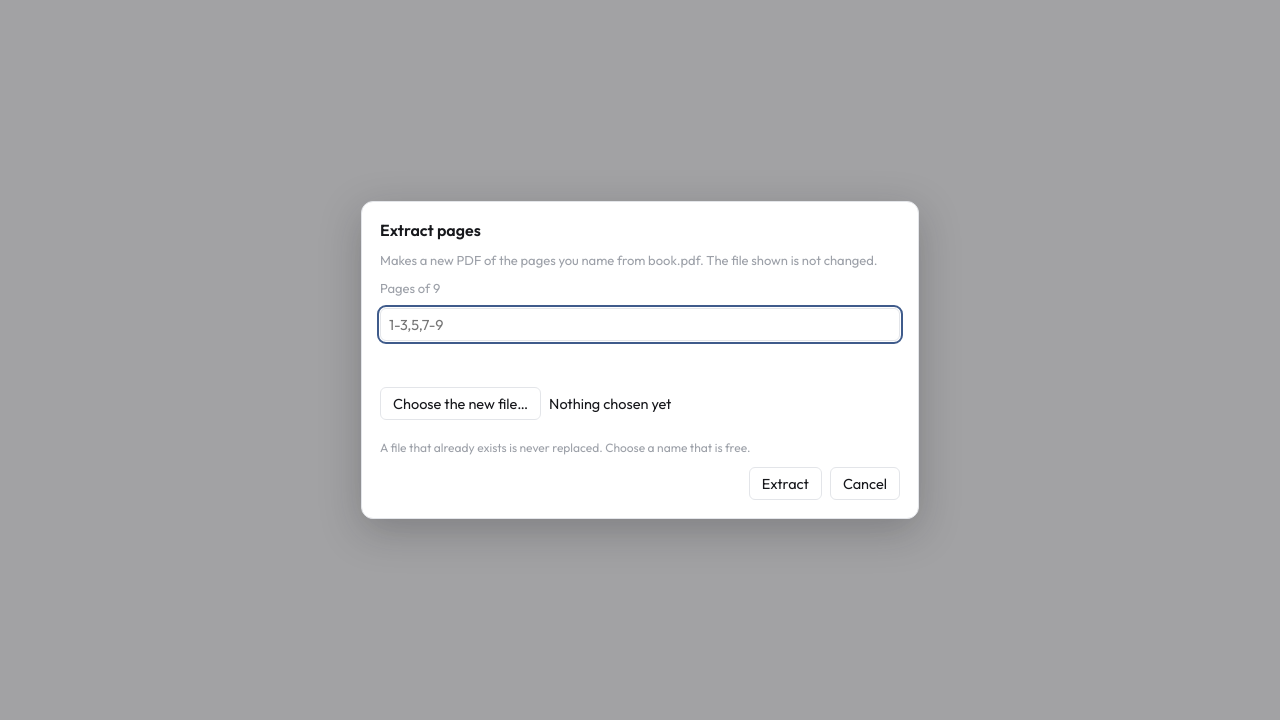
Scenario: extract_is_not_offered_for_pages_that_are_wrong_even_with_a_file_chosen
The width and height of the screenshot is (1280, 720).
Step 1. Click the button "Choose the new file…" → (461, 404), box [380,387,541,420]
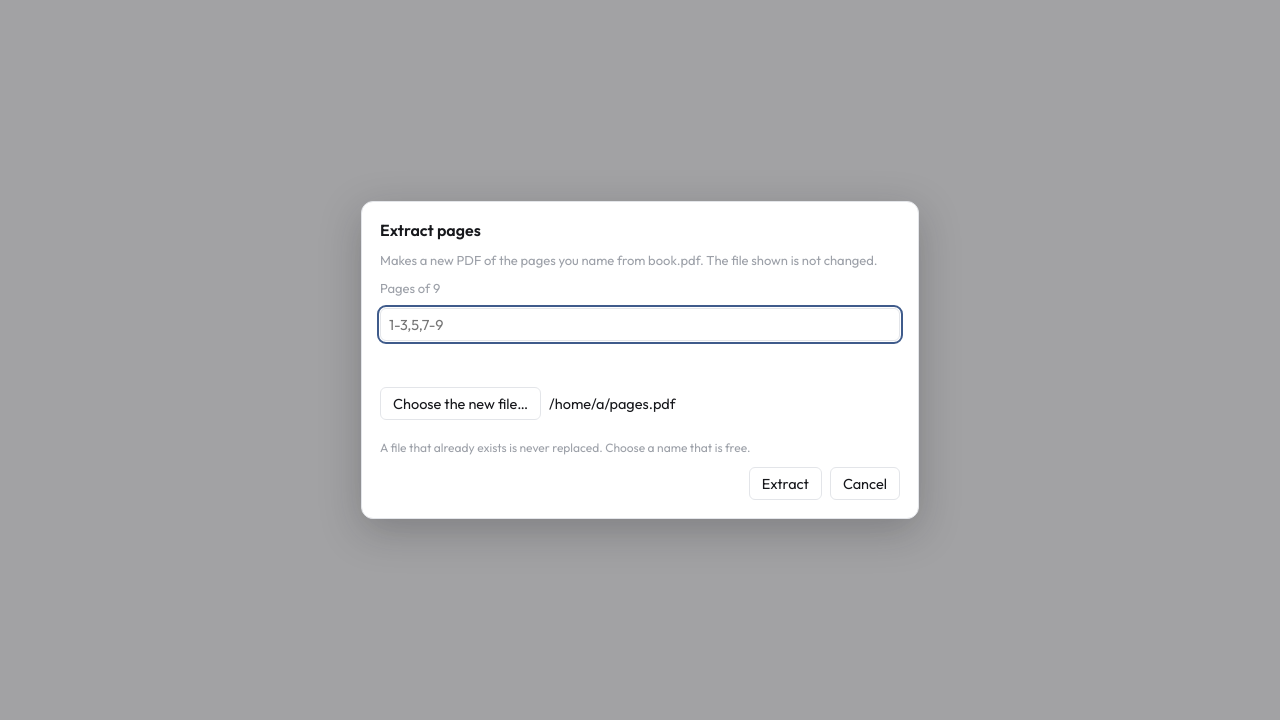
Result: the text with test id "pdf-job-target" no longer shows "Nothing" at [549,394,676,413]
Step 2. Type "1-3,3" into the field labelled "Pages of 9" → (640, 324), box [380,308,900,341]
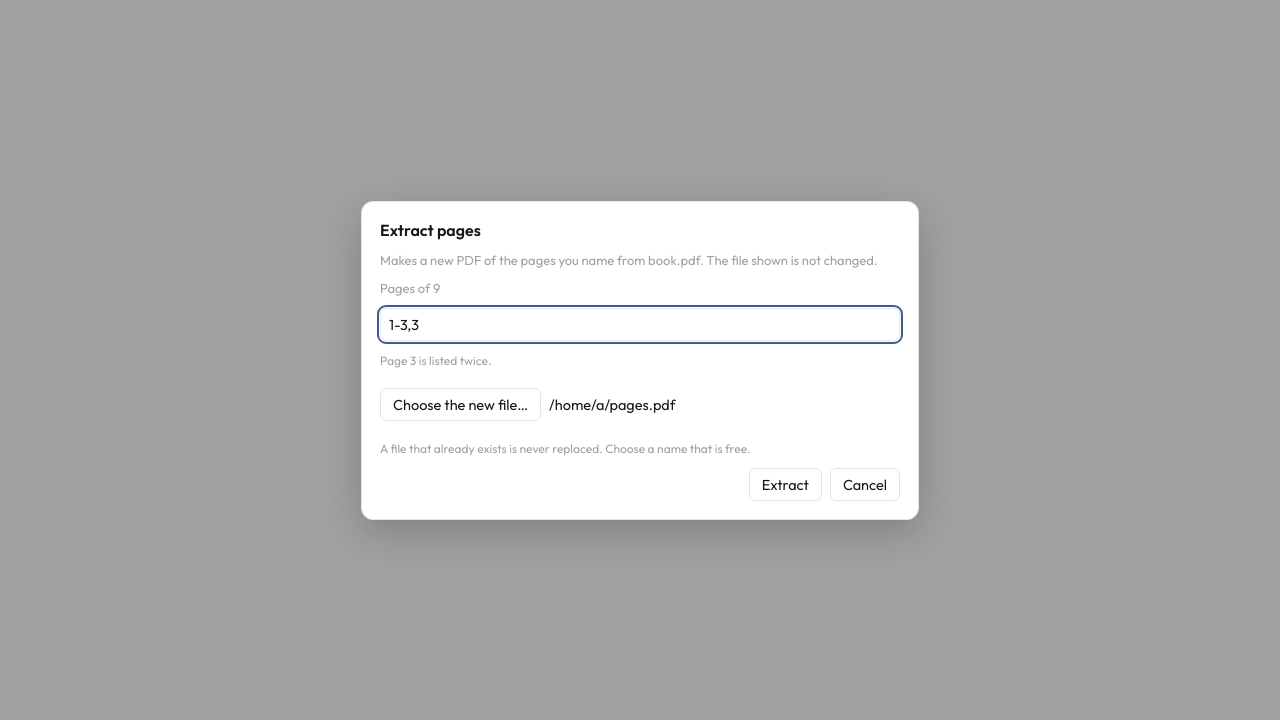
Expected: the button "Extract" is disabled, [749,468,822,500]
Step 3. Replace the text in the field labelled "Pages of 9" with "1-3" → (640, 324), box [380,308,900,340]
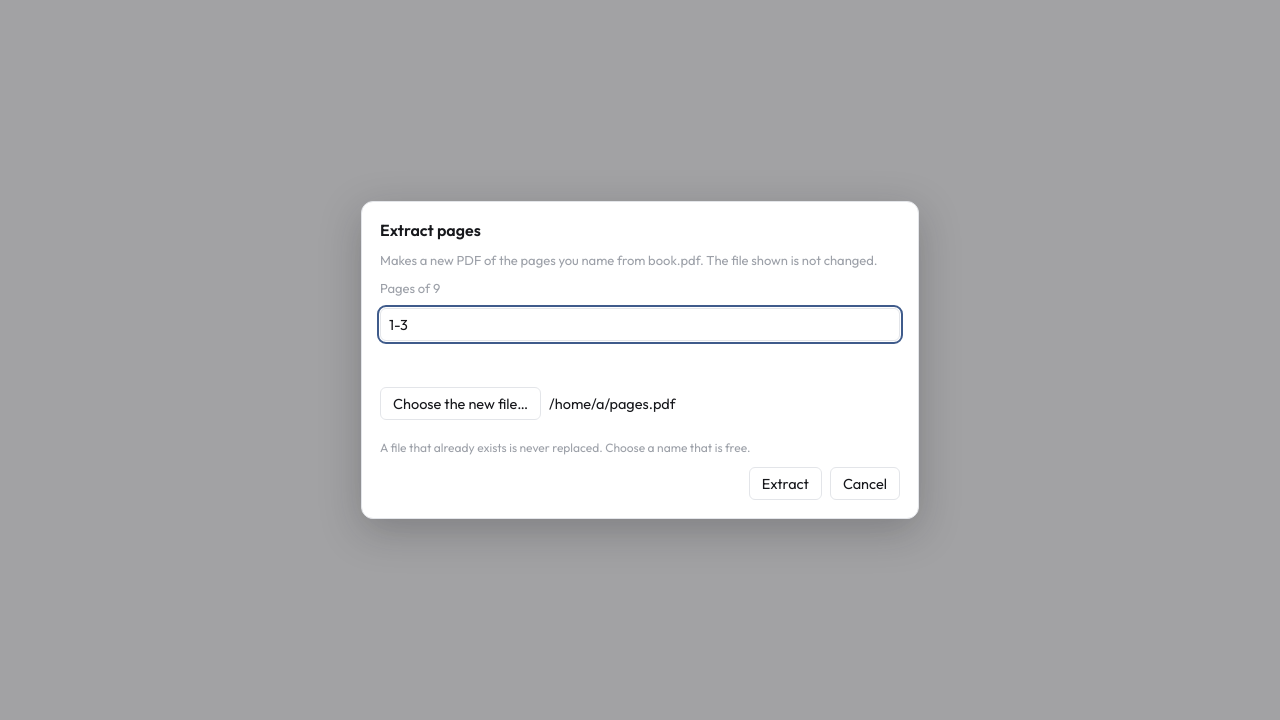
Result: the button "Extract" is enabled at [749,467,822,500]
